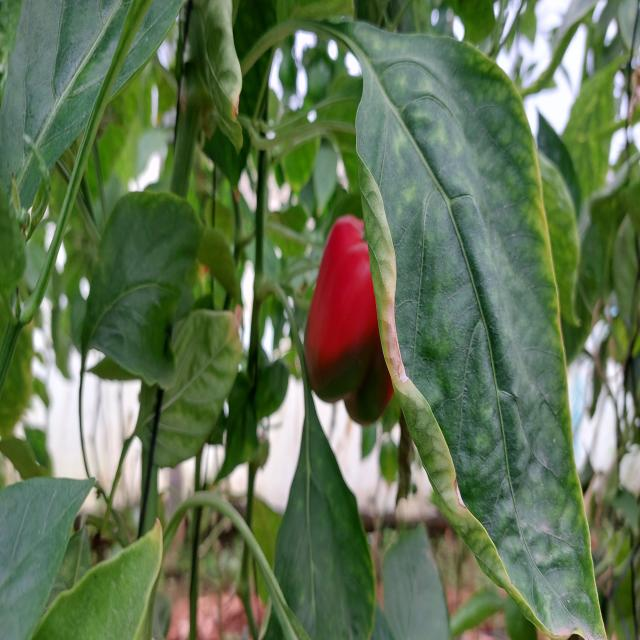Red-Ready-to-Harvest: (307, 197, 406, 420)
